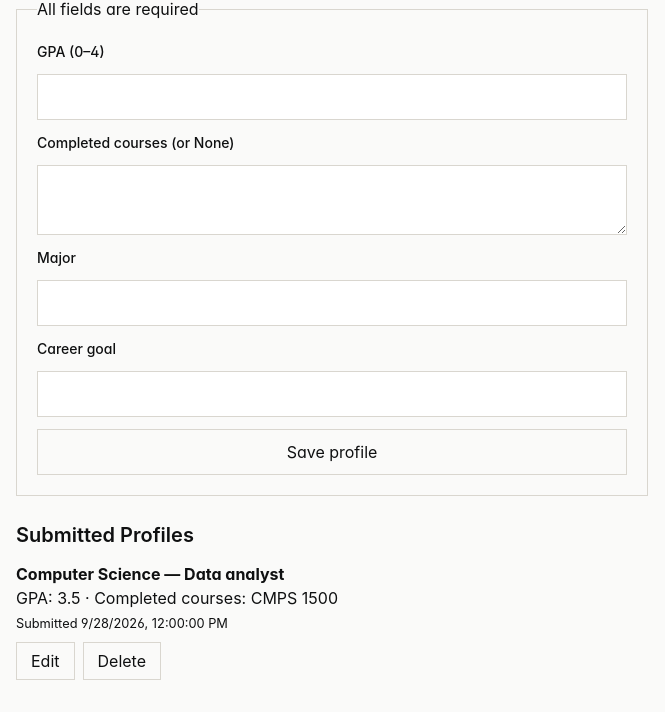
Test: SubmissionsPage — the submitted list › the edit form opens pre-filled with the record's current values
The width and height of the screenshot is (665, 712).
(page scrolled)
Expected: the text "Computer Science — Data analyst" is shown, x1=16 y1=564 x2=284 y2=584
Click the button "Edit".
click(45, 661)  # box x1=16 y1=642 x2=74 y2=680
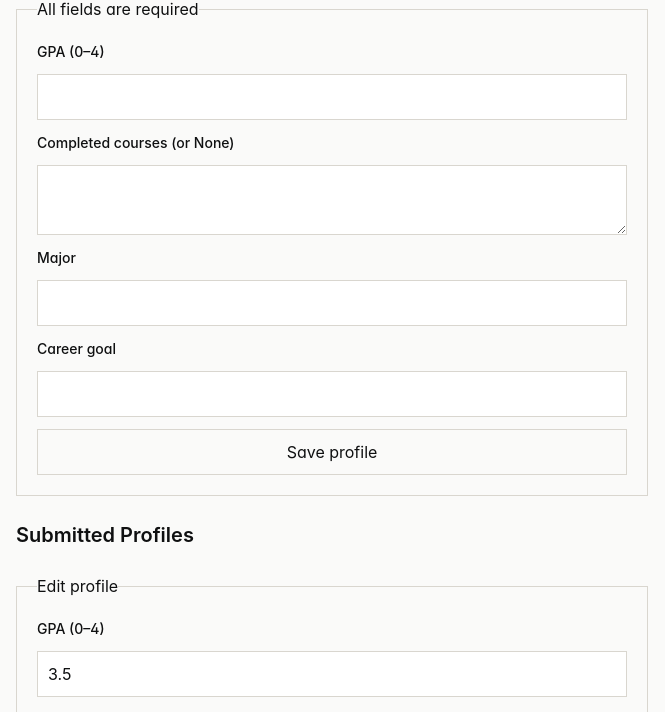
Expected: the number field labelled "GPA (0–4)" below "Edit profile" holds "3.5", x1=37 y1=651 x2=627 y2=697
